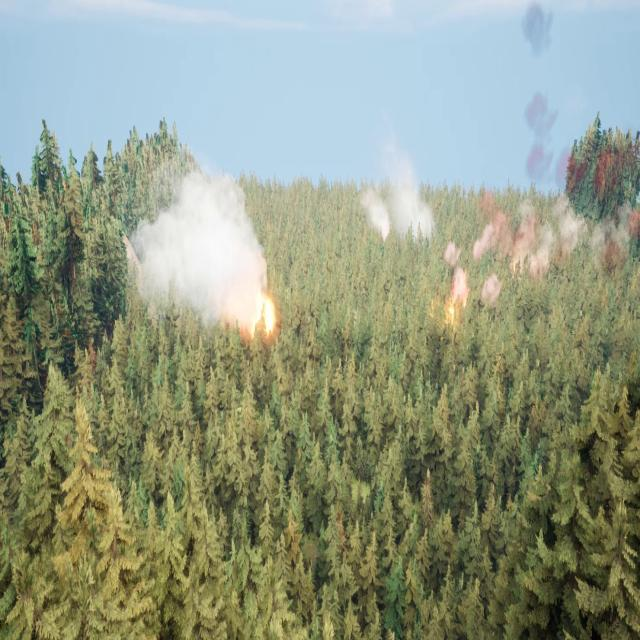fire: (243, 284, 284, 349), (432, 289, 472, 328)
smoke: (131, 162, 265, 325), (446, 210, 583, 291), (522, 0, 562, 188), (361, 152, 438, 242)
